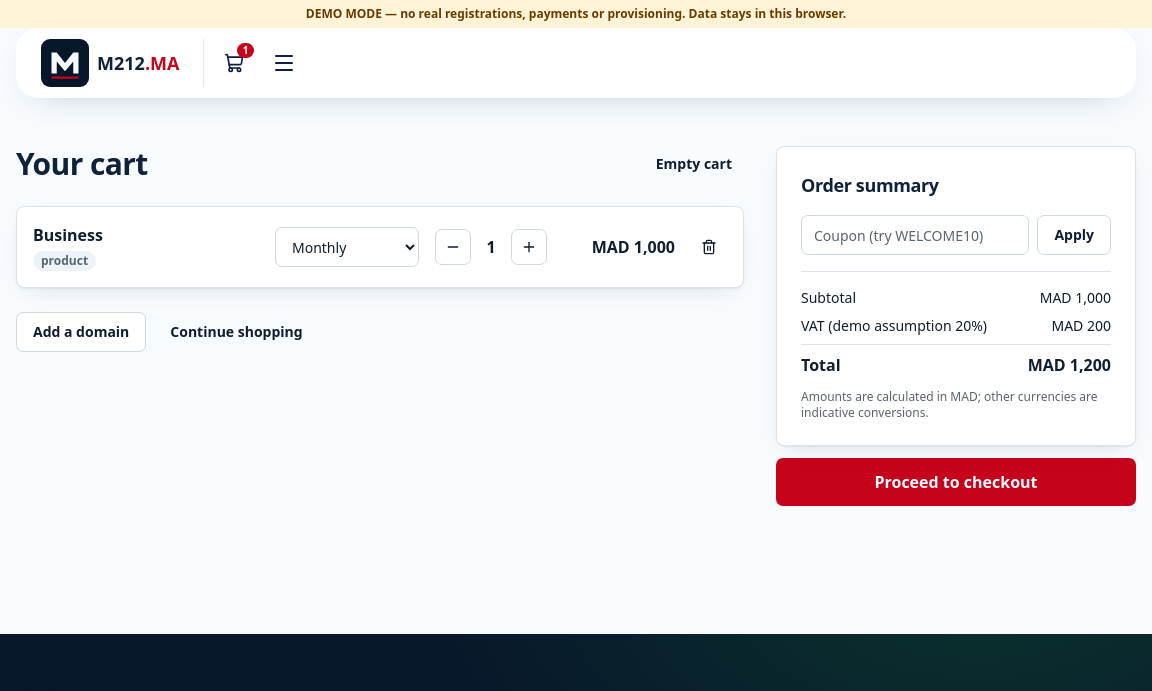
Scenario: storefront › cart applies coupon
Type "STARTUP20" into the field named "Coupon code" at (915, 235), box [801, 215, 1029, 255]
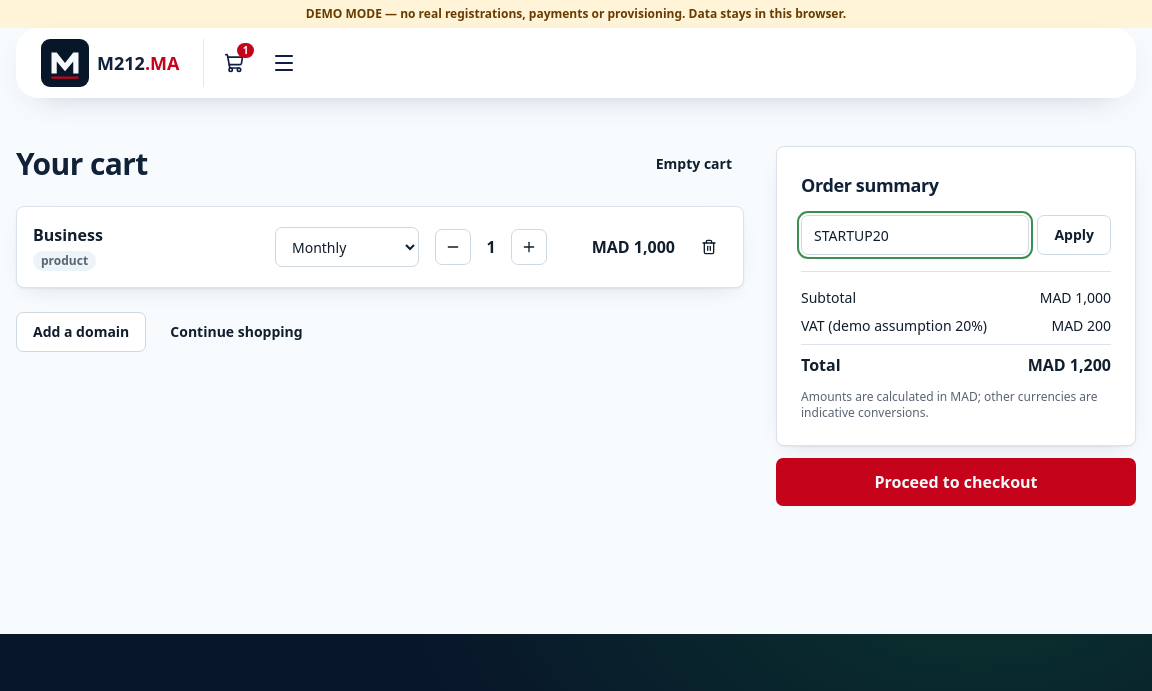
Click the button "Apply" at (1074, 235), box [1037, 215, 1111, 255]
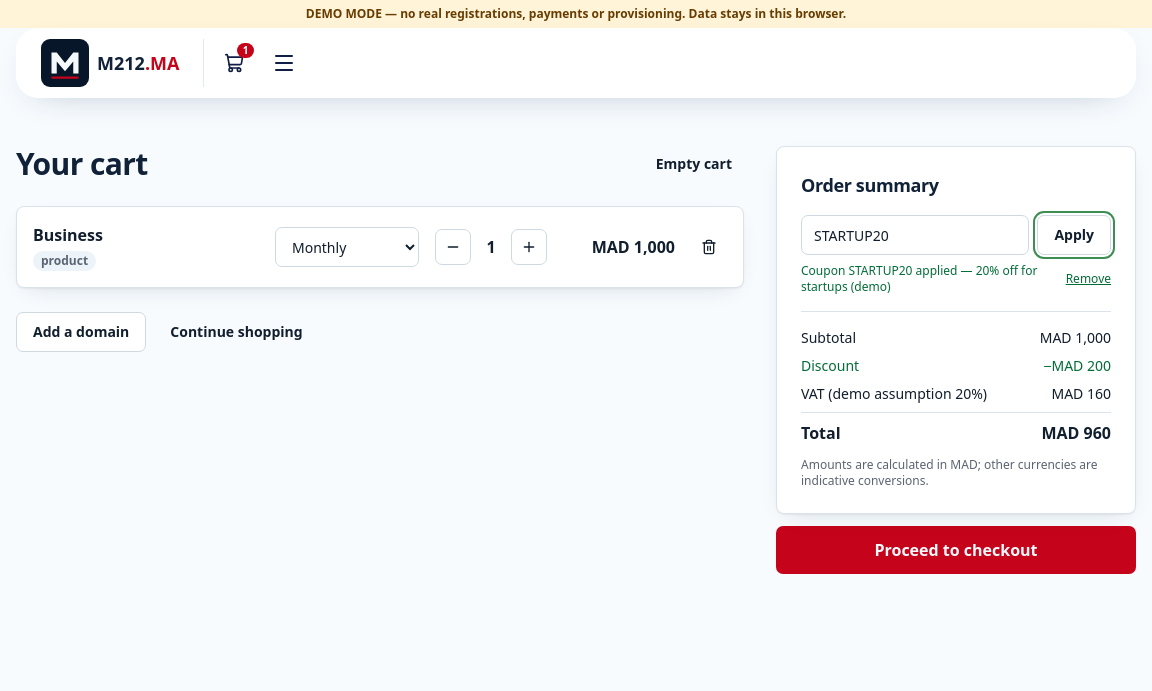
Expected: the text "Coupon STARTUP20 applied — 20% off for startups (demo)" is shown, [801, 263, 1066, 295]
Expected: the text "−MAD 200" is shown, [1043, 356, 1111, 376]
